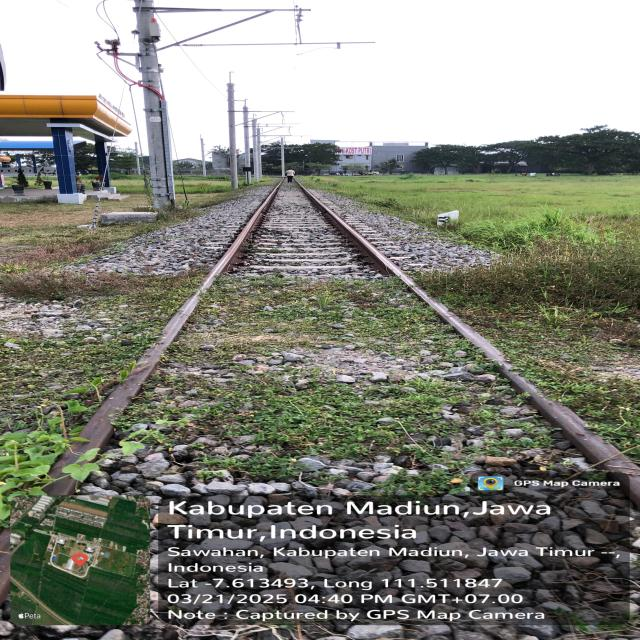rail-detection: (298, 183, 640, 505), (51, 184, 280, 478)
